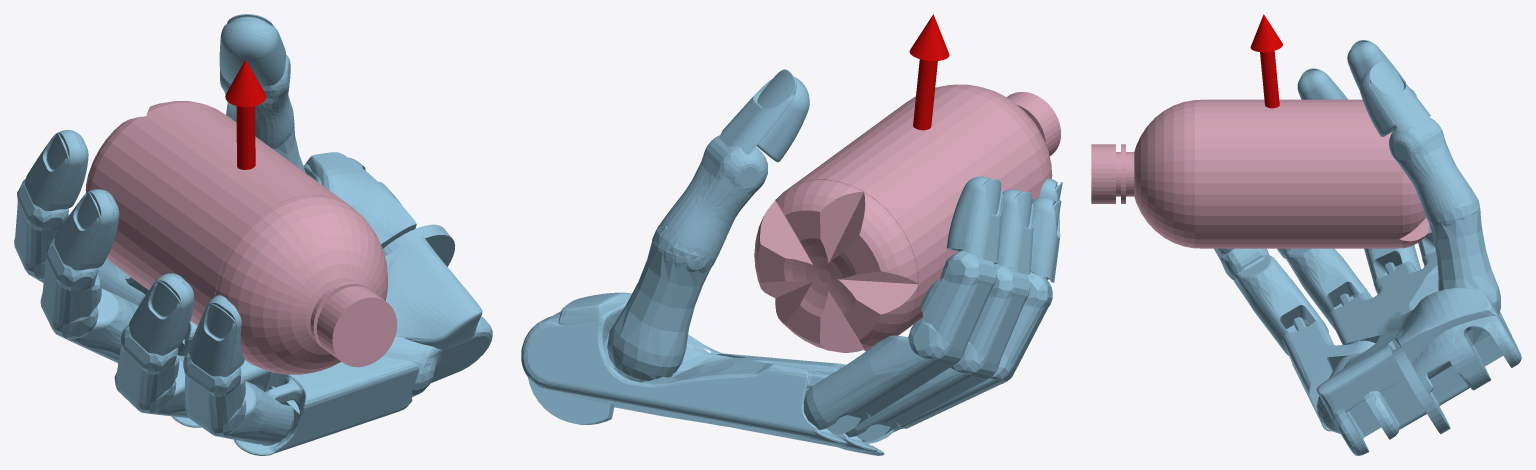
The picture shows the model from 3 angles, left to right: view 1: azimuth 30°, elevation 25°; view 2: azimuth 150°, elevation 25°; view 3: azimuth 270°, elevation 25°; orthographic projection. The views are drawn at different scales.
Parts seen in each view (by area): view 1: world, water_bottle.stl; view 2: world, water_bottle.stl; view 3: world, water_bottle.stl.
Boxes of the visible parts, left/top/right/bottom form: world: left=14, top=14, right=492, bottom=455; water_bottle.stl: left=85, top=101, right=397, bottom=374; world: left=521, top=14, right=1062, bottom=455; water_bottle.stl: left=754, top=84, right=1061, bottom=352; world: left=1214, top=14, right=1521, bottom=455; water_bottle.stl: left=1091, top=99, right=1428, bottom=248.
Size of the model in its own units: 0.1672 by 0.1521 by 0.1741.
